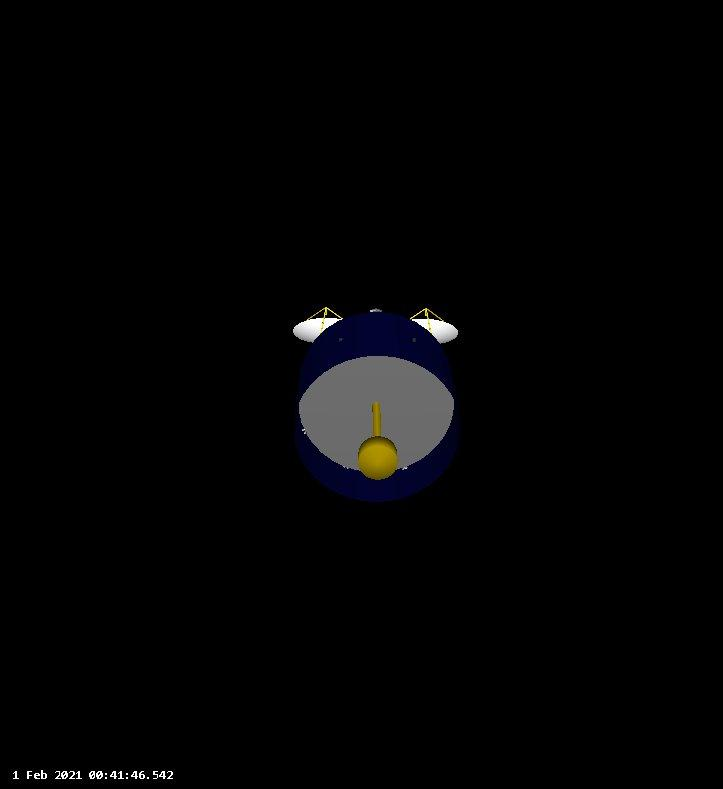antenna: (297, 353, 457, 482), (292, 304, 346, 345), (407, 307, 460, 345)
body: (291, 308, 460, 507)
